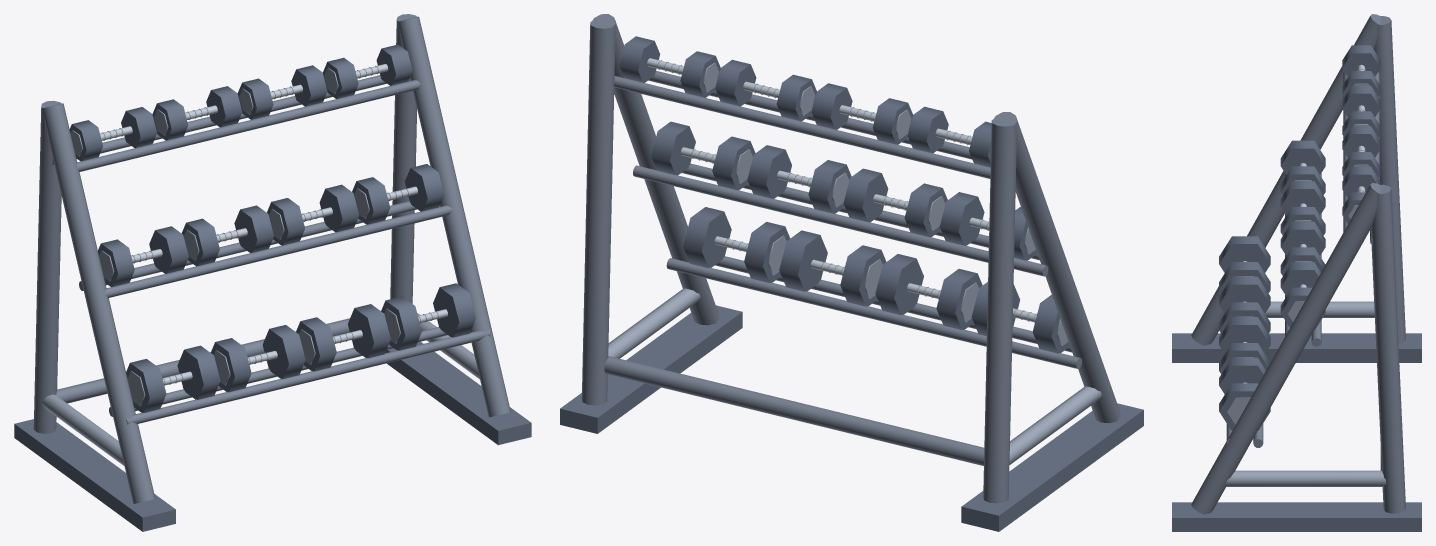
Rendered from dumbbell-rack-lite.glb.
3 views of the same model, side by side, from view 1: azimuth 30°, elevation 25°; view 2: azimuth 150°, elevation 25°; view 3: azimuth 270°, elevation 25° (orthographic). The views are drawn at different scales.
Visible parts, largest first — view 1: dumbbell-rack-frame, dumbbell-rack-dark, dumbbell-rack-accent, dumbbell-rack-light; view 2: dumbbell-rack-frame, dumbbell-rack-dark, dumbbell-rack-accent, dumbbell-rack-light; view 3: dumbbell-rack-dark, dumbbell-rack-frame, dumbbell-rack-accent, dumbbell-rack-light.
Boxes of the visible parts, x1,y1,x2,y2 form: dumbbell-rack-frame: (33,14,510,503); dumbbell-rack-dark: (14,44,531,531); dumbbell-rack-accent: (42,65,479,465); dumbbell-rack-light: (100,64,447,385); dumbbell-rack-frame: (581,14,1120,503); dumbbell-rack-dark: (560,36,1143,531); dumbbell-rack-accent: (608,60,1102,464); dumbbell-rack-light: (647,58,1036,322); dumbbell-rack-dark: (1172,45,1421,531); dumbbell-rack-frame: (1191,14,1405,514); dumbbell-rack-accent: (1225,69,1386,486); dumbbell-rack-light: (1243,65,1365,383).
Bounding box in the file's own units: 1.05 × 0.8992 × 0.6.
